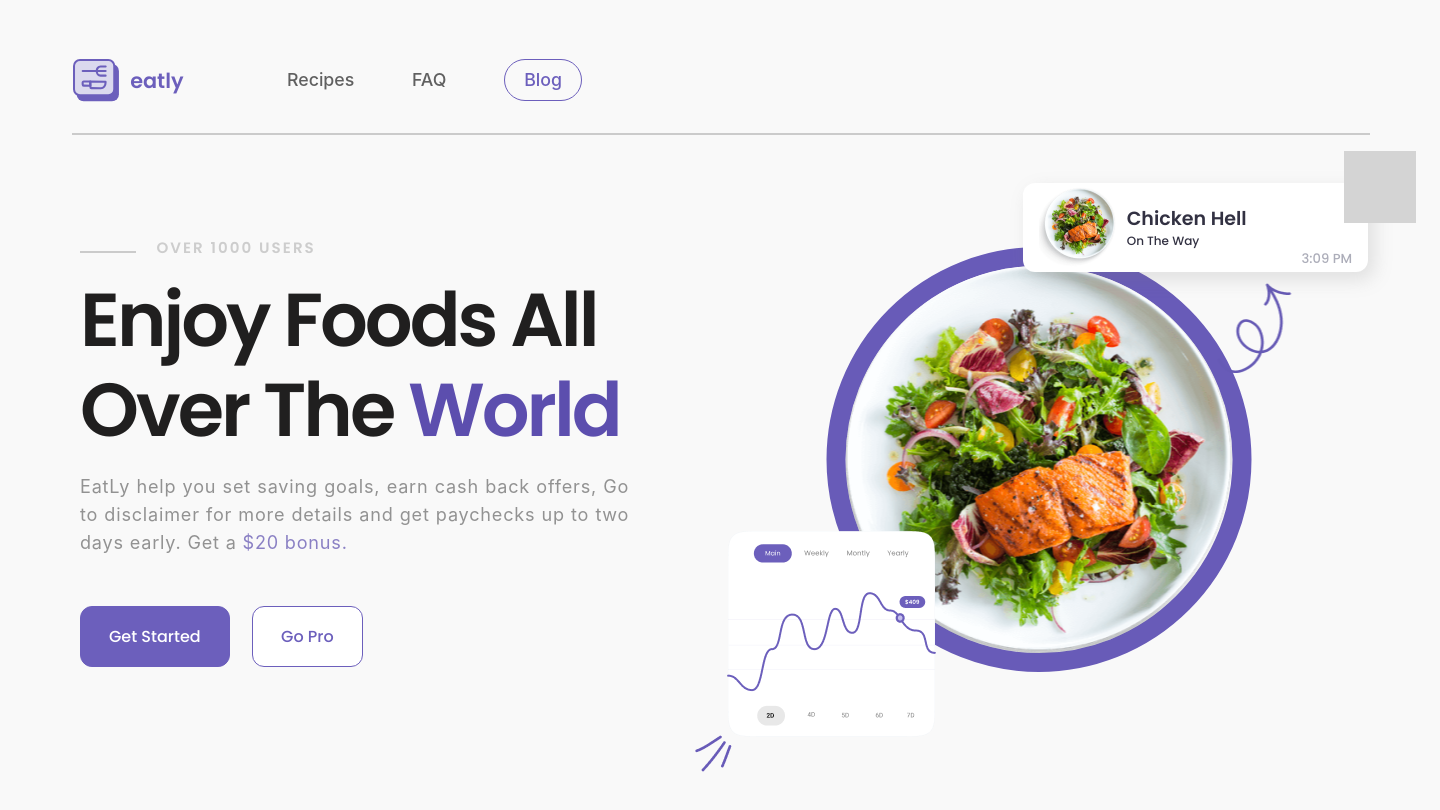
Test case: App component › App navigate to BlogPage
Step 1. Click the link "Blog" → (543, 80), box x1=504 y1=59 x2=582 y2=101
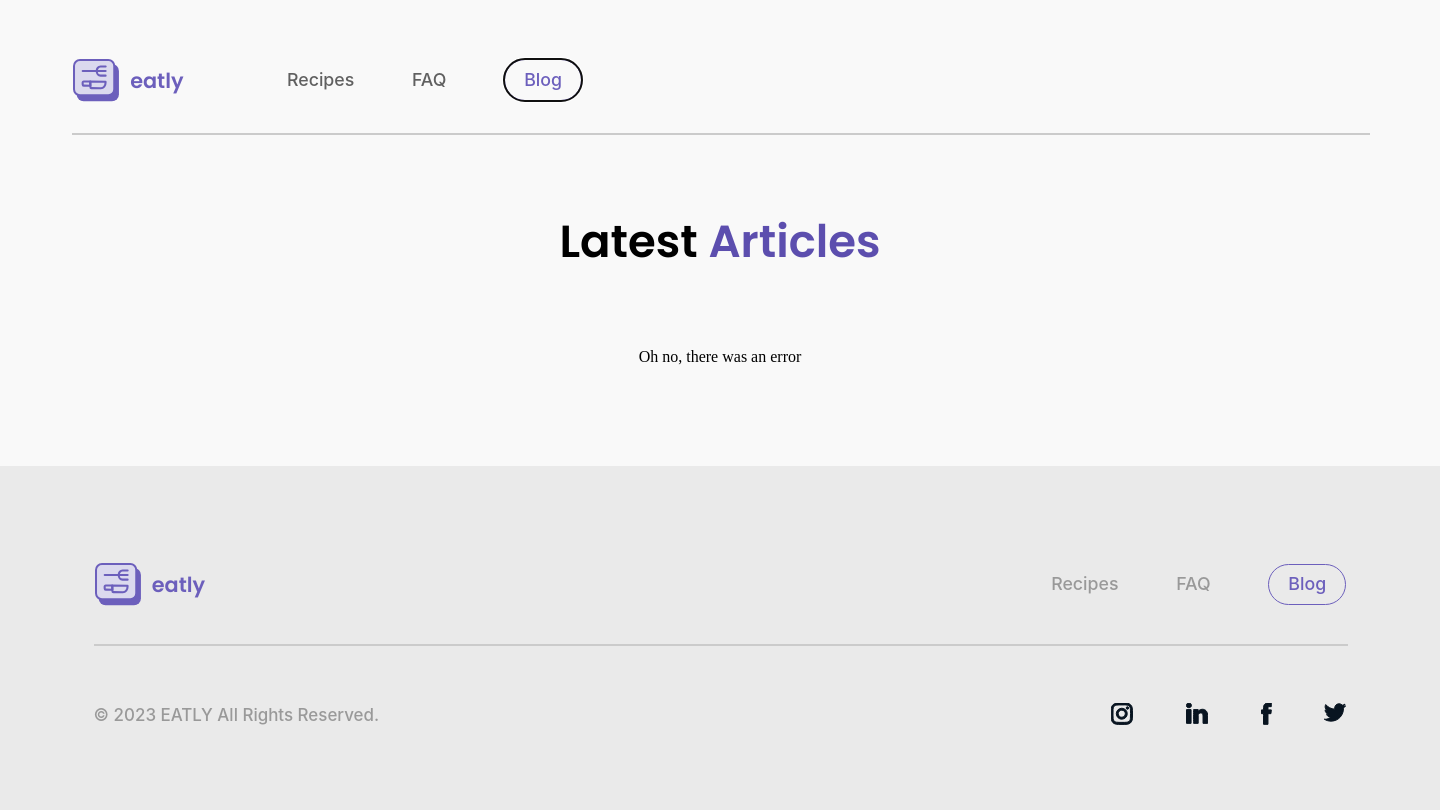
Now the element with test id "blogPage" is shown, box x1=560 y1=210 x2=880 y2=365
